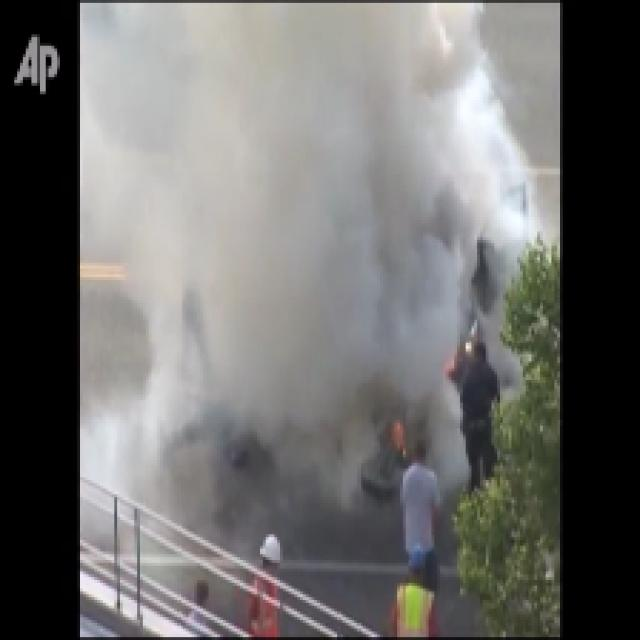smoke: (150, 9, 446, 446)
